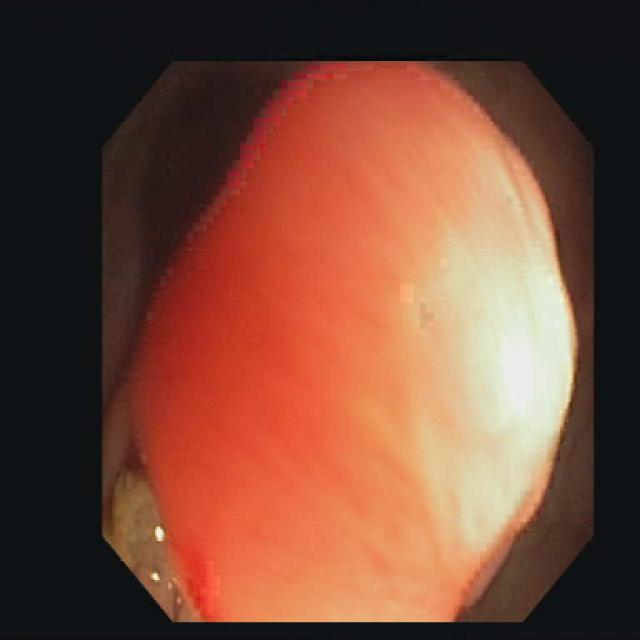tumor: (138, 67, 570, 587)
